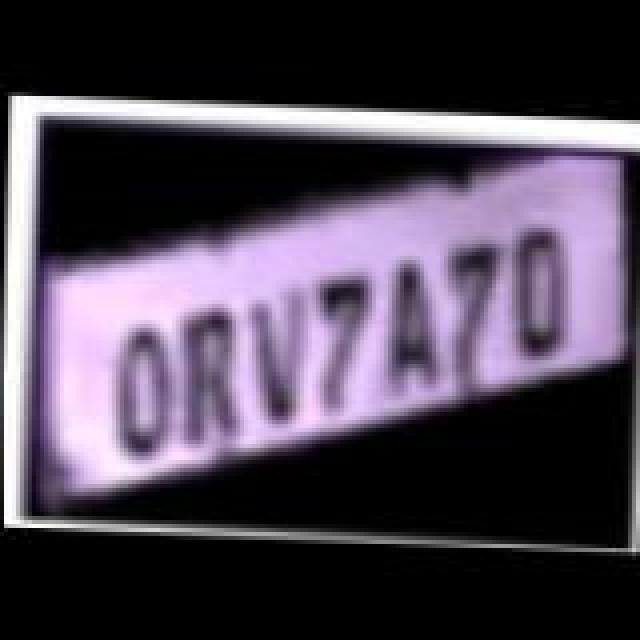7: (428, 234, 528, 382), (298, 266, 394, 410)
A: (364, 252, 456, 400)
D: (496, 220, 592, 364)
O: (92, 318, 188, 462)
R: (160, 304, 264, 452)
V: (230, 288, 322, 432)
